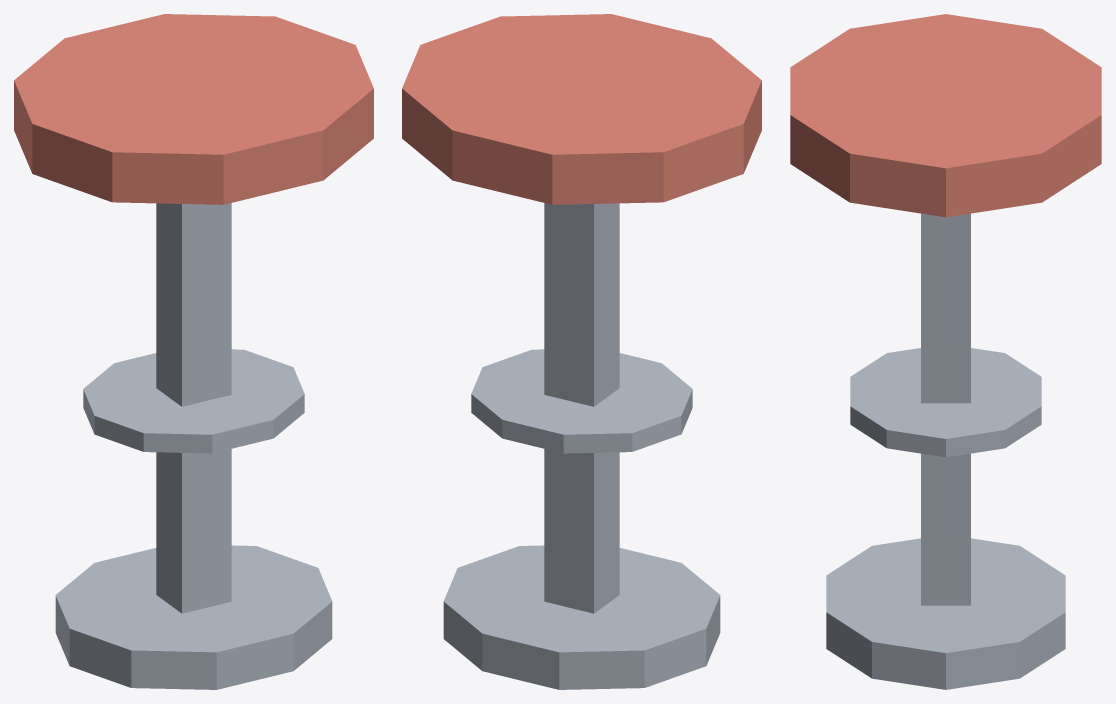
Rendered from stoolBar.glb.
3 views of the same model, side by side, from view 1: azimuth 30°, elevation 25°; view 2: azimuth 150°, elevation 25°; view 3: azimuth 270°, elevation 25° (orthographic). The views are drawn at different scales.
Visible parts, largest first — view 1: stoolBar; view 2: stoolBar; view 3: stoolBar.
Boxes of the visible parts, x1,y1,x2,y2 form: stoolBar: (14,14,373,689); stoolBar: (402,14,761,689); stoolBar: (790,14,1101,689).
Size of the model in its own units: 0.27 by 0.44 by 0.23.
1 material, 1 textured.
